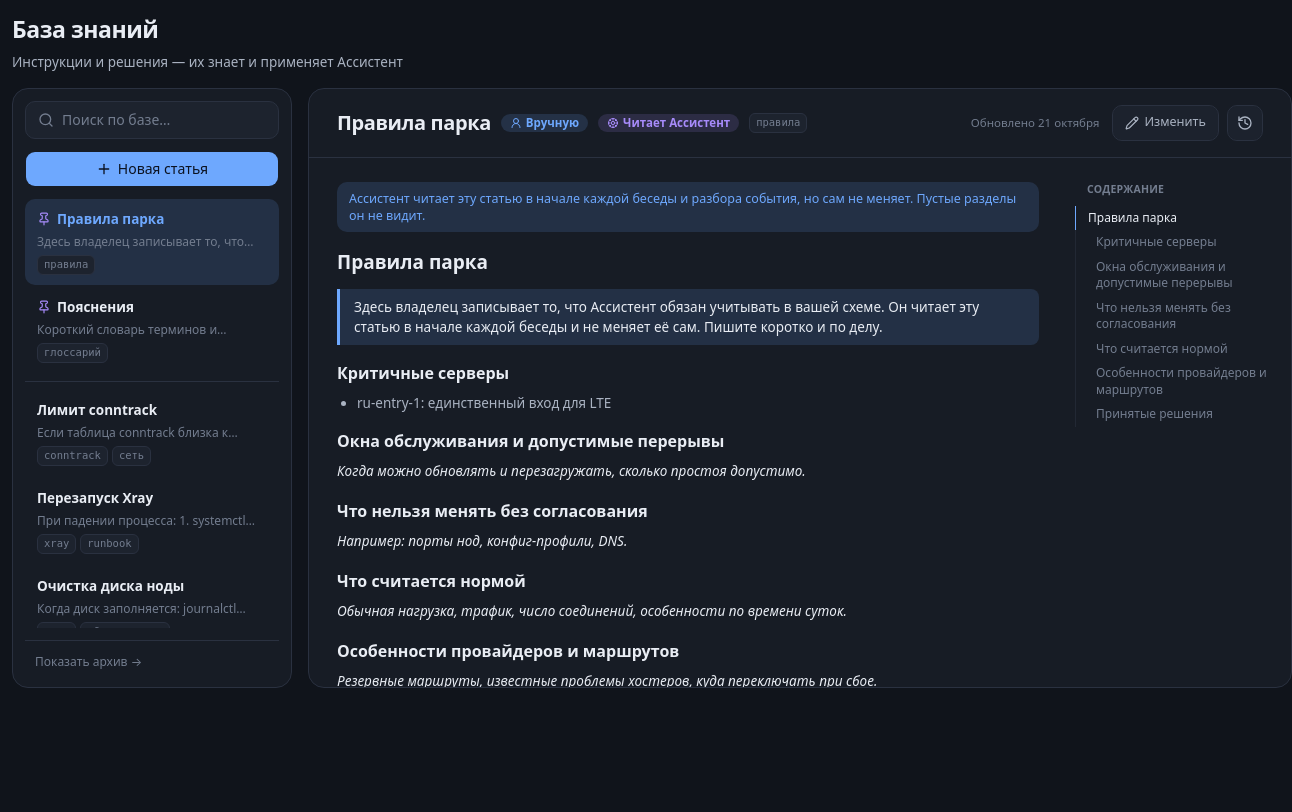
Test: KnowledgePage › поиск фильтрует список
Expected: the button "Лимит conntrack" is shown, 25,390 -> 279,476
Step 1. Type "диск" into the field named "Поиск по базе знаний" → (164, 120), box 62,102 -> 266,138
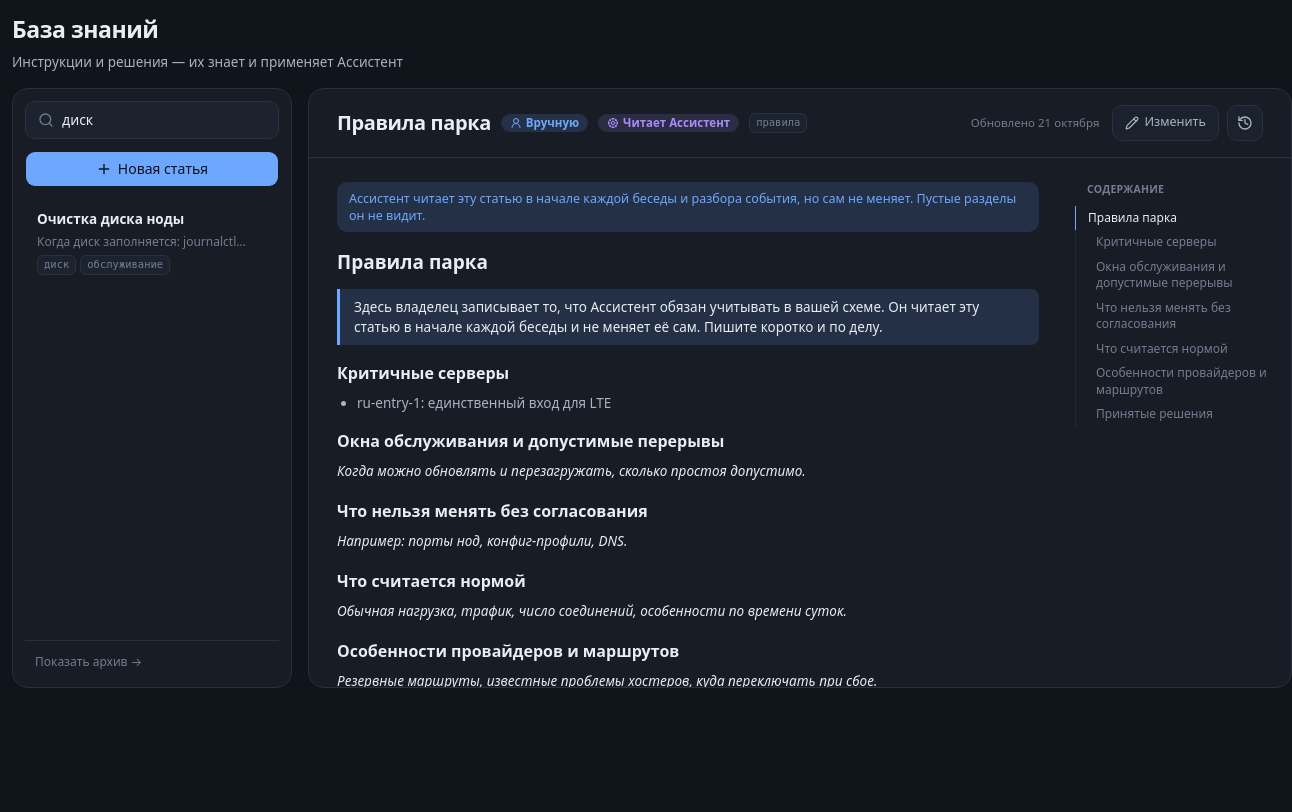
Expected: the button "Очистка диска" is shown, 25,199 -> 279,285
Expected: the button "Лимит conntrack" is gone
